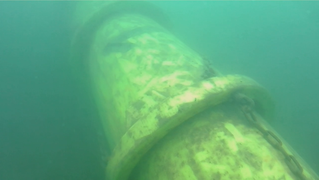1: (102, 25, 172, 56)
pipe: (69, 1, 318, 179)
